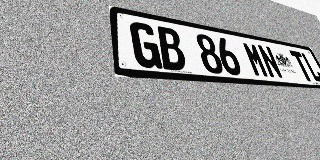6: (213, 36, 243, 76)
8: (194, 33, 225, 74)
B: (155, 25, 188, 71)
G: (129, 21, 163, 69)
L: (300, 52, 320, 82)
M: (241, 41, 270, 78)
N: (256, 44, 284, 79)
T: (289, 50, 315, 82)
